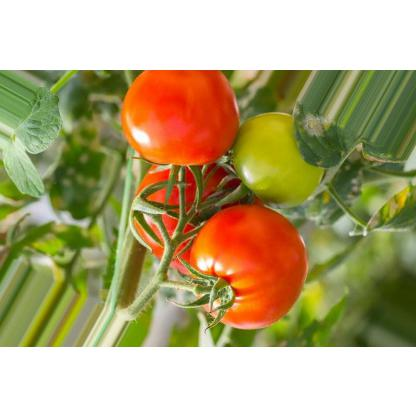tomato: (180, 197, 318, 334), (110, 154, 266, 274), (229, 107, 355, 213), (124, 70, 244, 169)
